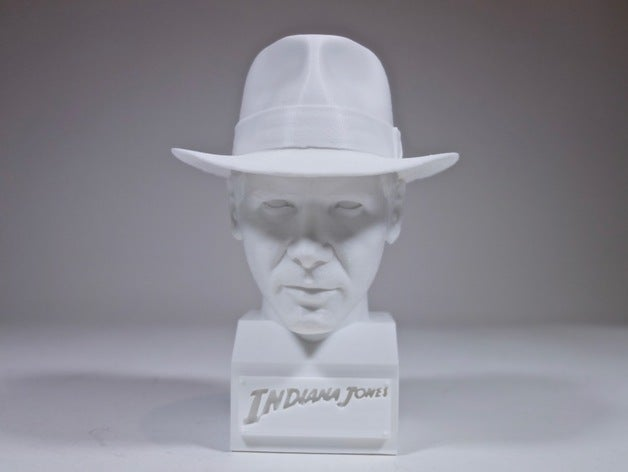Good: (158, 17, 465, 461)
